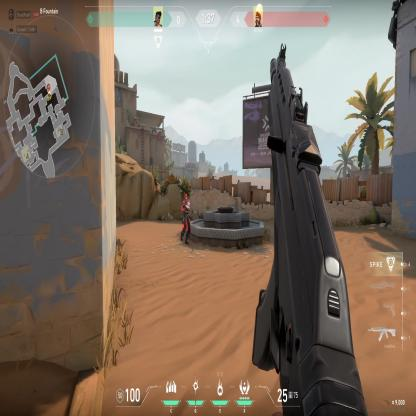enemy: (180, 194, 192, 246)
